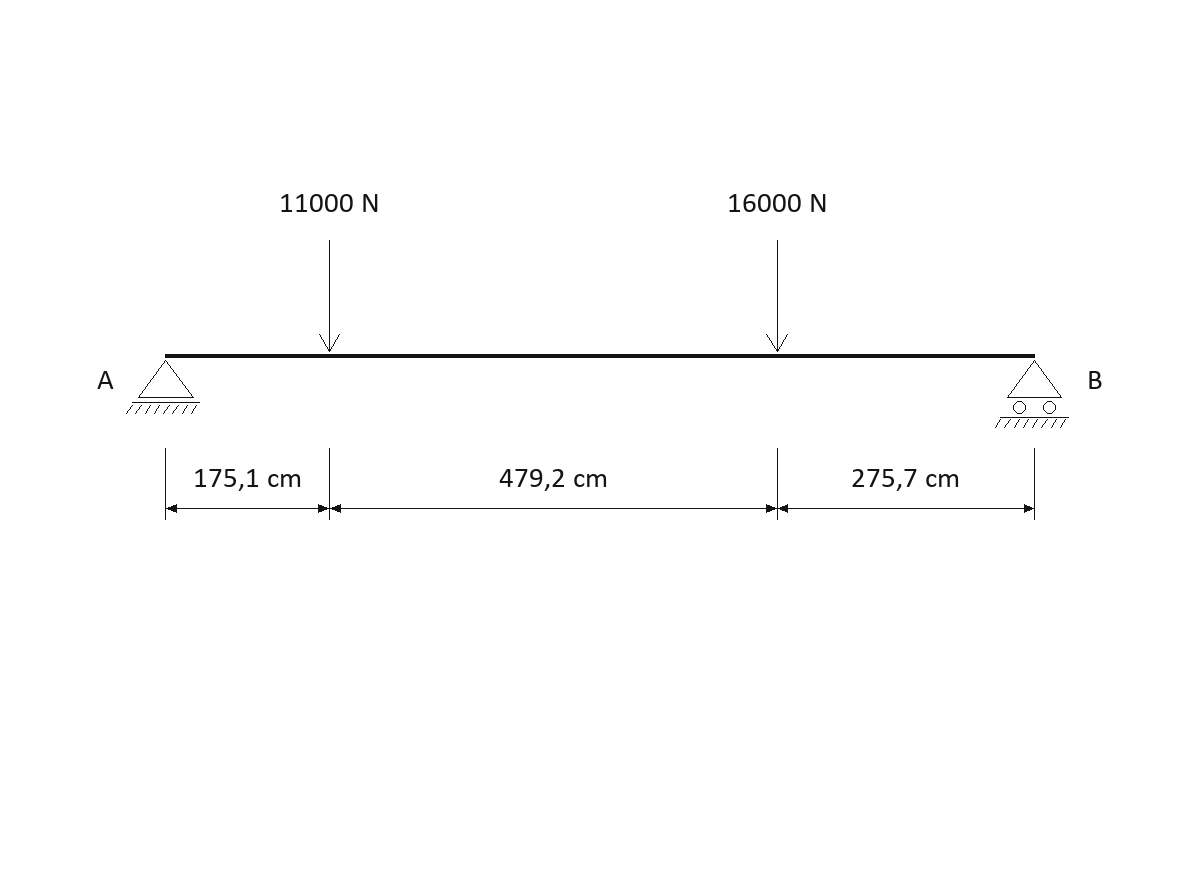pin_support: (126, 360, 200, 414)
point_load: (766, 240, 788, 352), (319, 240, 340, 352)
roller_support: (995, 360, 1069, 428)
